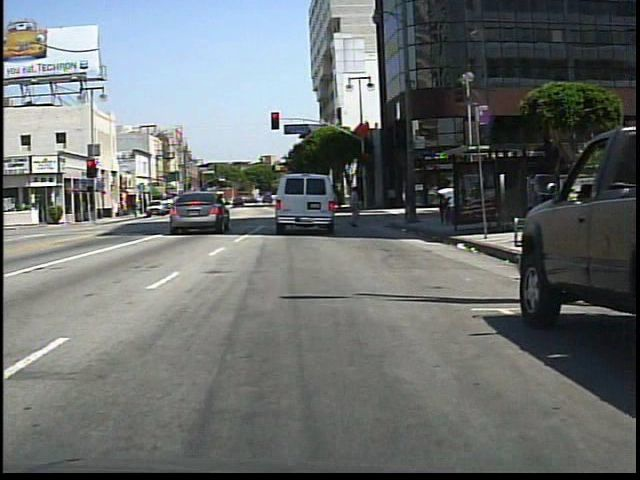person: (345, 183, 368, 231), (182, 192, 197, 218)
